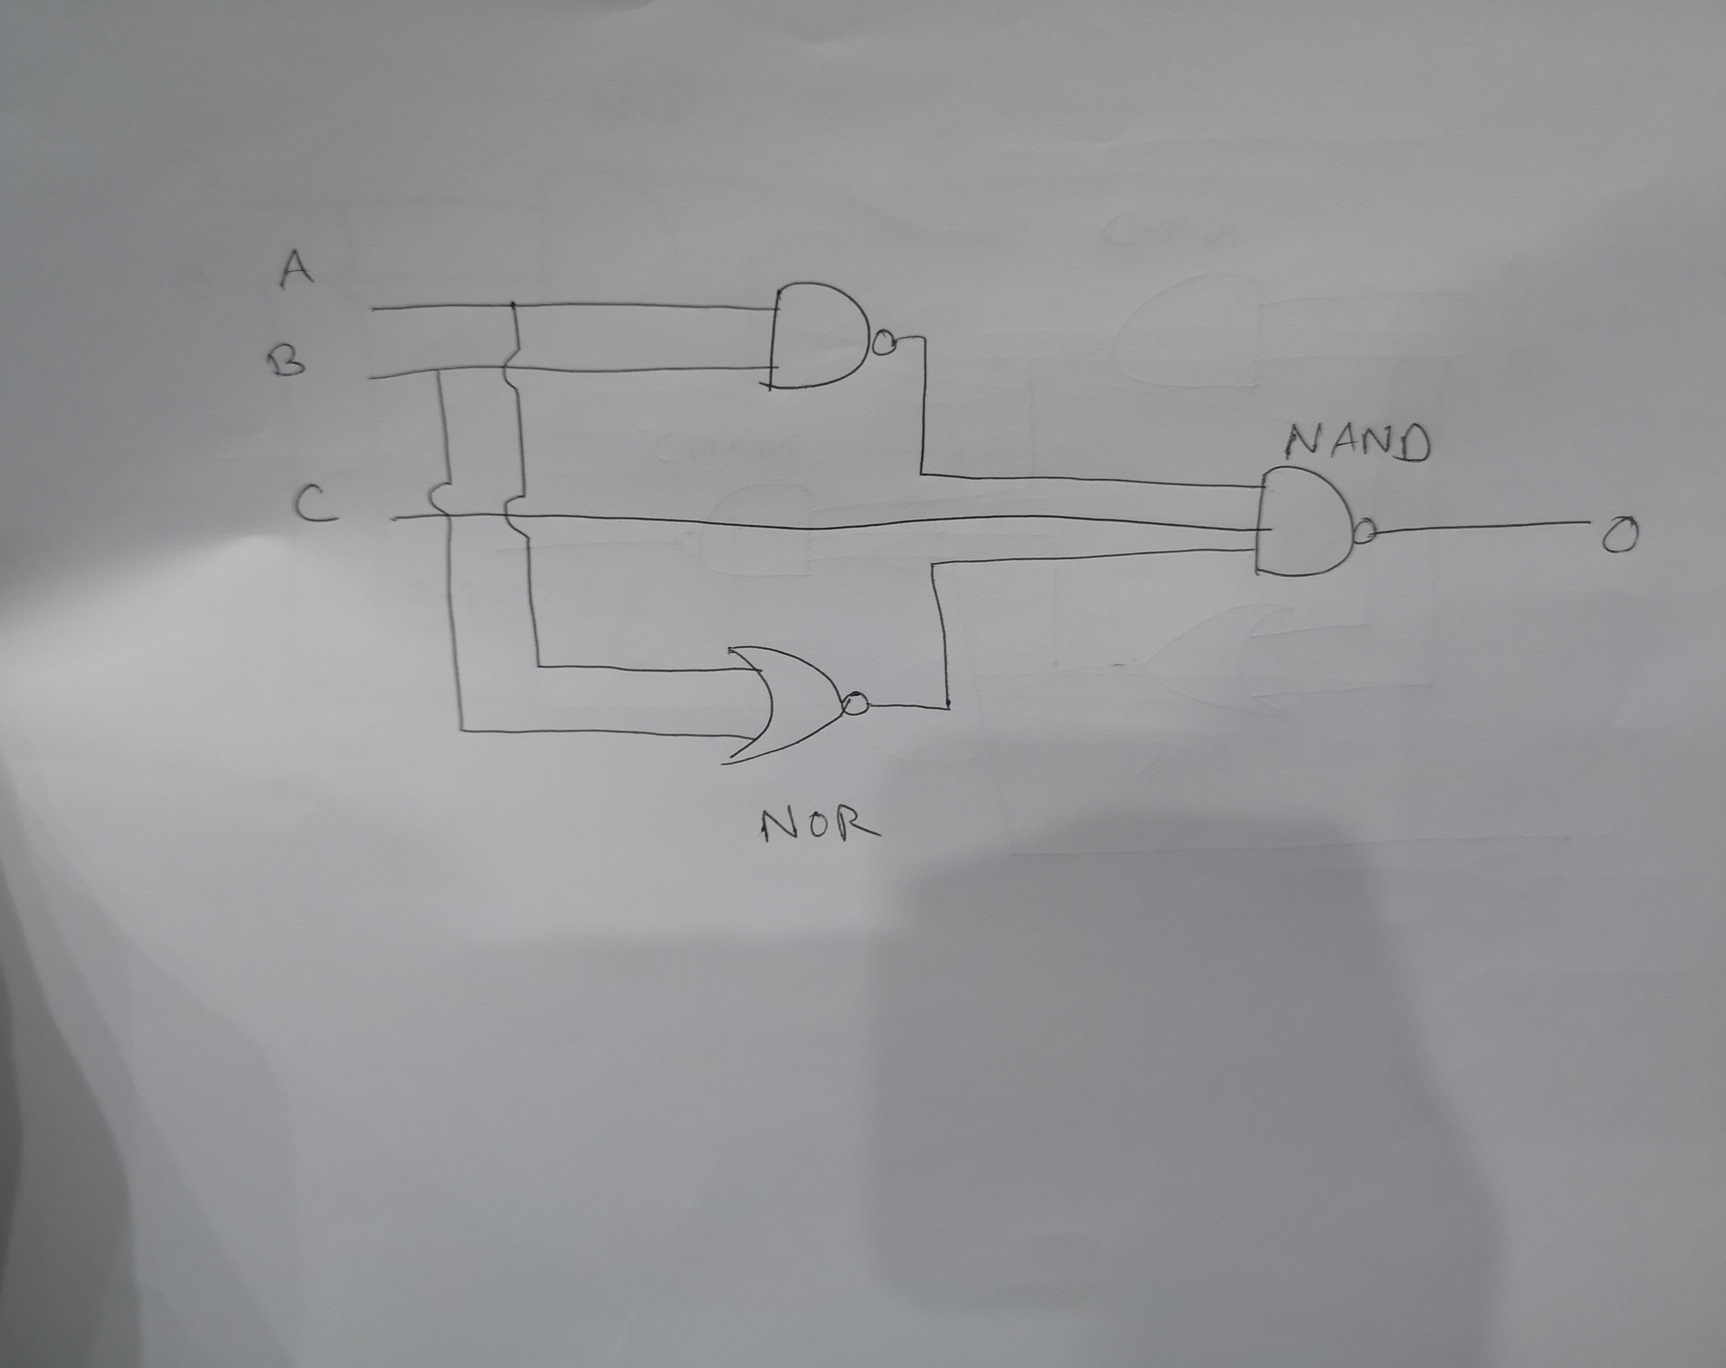crossover: (496, 486, 532, 542), (423, 477, 462, 526), (492, 343, 530, 385)
junction: (934, 695, 961, 720), (920, 551, 946, 576), (525, 655, 551, 678), (909, 461, 932, 484), (424, 360, 448, 380), (503, 294, 523, 315), (453, 720, 472, 739), (913, 329, 933, 348)
nand: (757, 271, 905, 399), (1247, 463, 1383, 582)
nor: (714, 636, 878, 772)
terminal: (380, 505, 408, 531), (363, 299, 384, 318), (360, 369, 380, 387), (1582, 514, 1599, 531)
text: (1278, 416, 1439, 468), (759, 798, 884, 849), (269, 240, 319, 293), (290, 478, 340, 526), (1597, 512, 1648, 559), (258, 336, 311, 381)
